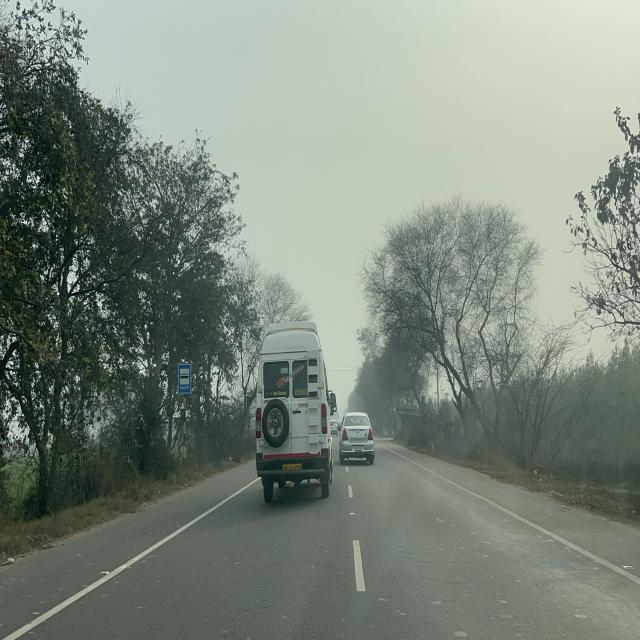INFORMATION: (178, 362, 192, 394)
